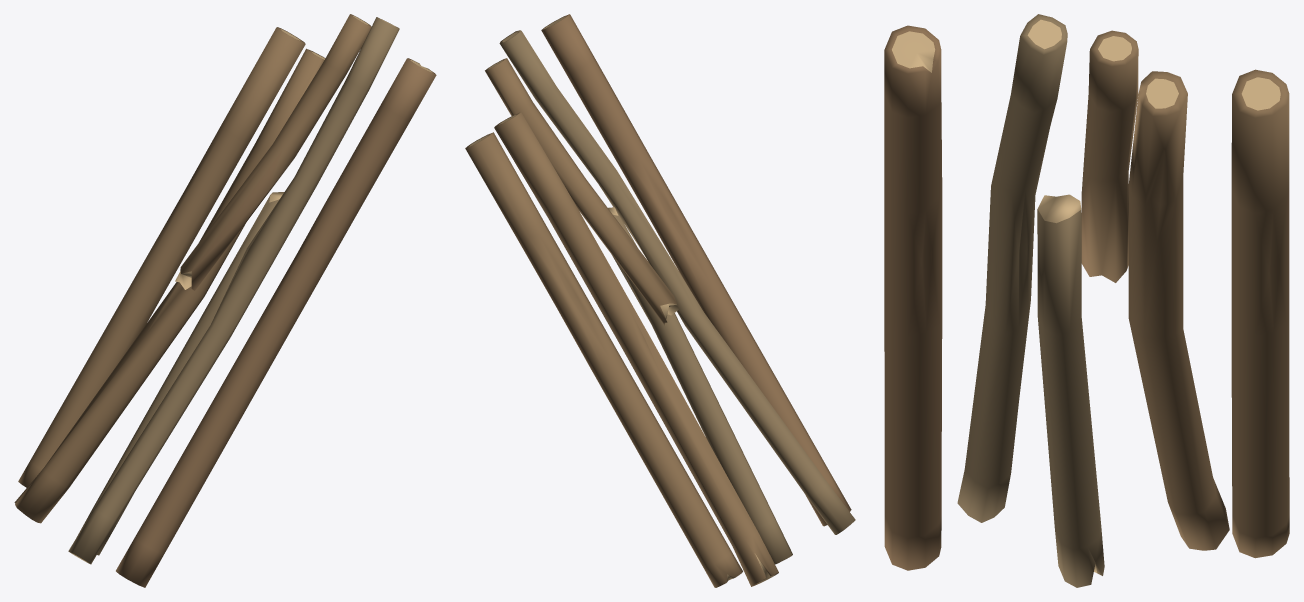
Rendered from rpgpp_av_roof_01_6x5x3_half_b.gltf.
The picture shows the model from 3 angles, left to right: view 1: azimuth 30°, elevation 25°; view 2: azimuth 150°, elevation 25°; view 3: azimuth 270°, elevation 25°; orthographic projection. The views are drawn at different scales.
Parts seen in each view (by area): view 1: rpgpp_av_roof_01_6x5x3_half_b; view 2: rpgpp_av_roof_01_6x5x3_half_b; view 3: rpgpp_av_roof_01_6x5x3_half_b.
Part boxes in pixels (x1,y1,x2,y2): rpgpp_av_roof_01_6x5x3_half_b: [14, 14, 436, 587]; rpgpp_av_roof_01_6x5x3_half_b: [465, 14, 855, 587]; rpgpp_av_roof_01_6x5x3_half_b: [884, 14, 1289, 587].
Bounding box in the file's own units: 0.0492 × 0.0647 × 0.03.
1 material, 1 textured.
